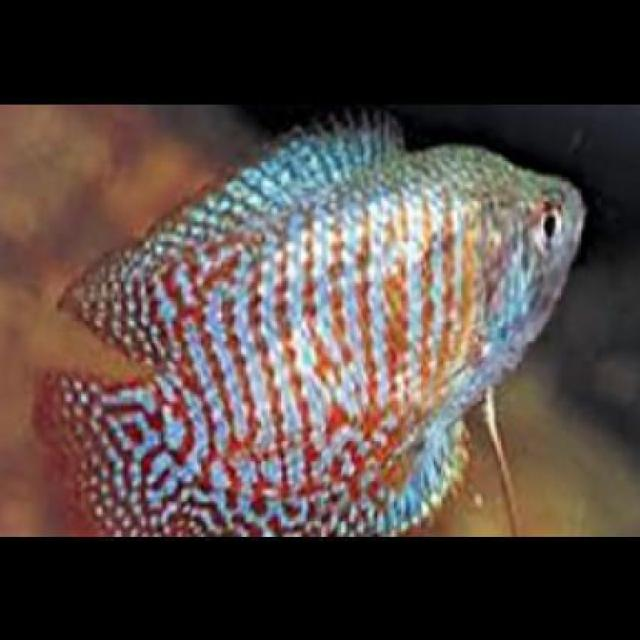Gourami: (25, 113, 590, 536)
